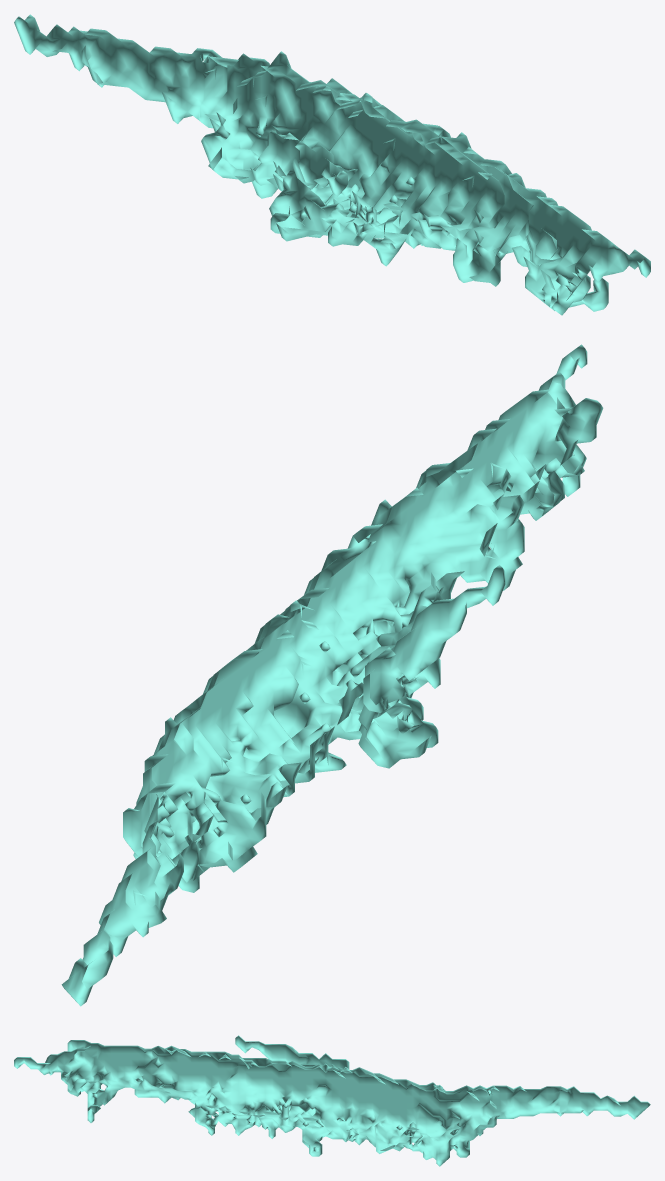
Rendered from osteocyte_19.glb.
3 views of the same model, one above another, from view 1: azimuth 30°, elevation 25°; view 2: azimuth 150°, elevation 25°; view 3: azimuth 270°, elevation 25° (orthographic). The views are drawn at different scales.
Visible parts, largest first — view 1: osteocyte_19; view 2: osteocyte_19; view 3: osteocyte_19.
Boxes of the visible parts, left/top/right/bottom form: osteocyte_19: left=14, top=14, right=650, bottom=315; osteocyte_19: left=61, top=344, right=603, bottom=1006; osteocyte_19: left=14, top=1035, right=650, bottom=1166.
Bounding box in the file's own units: 7.15 × 8.49 × 42.47.
